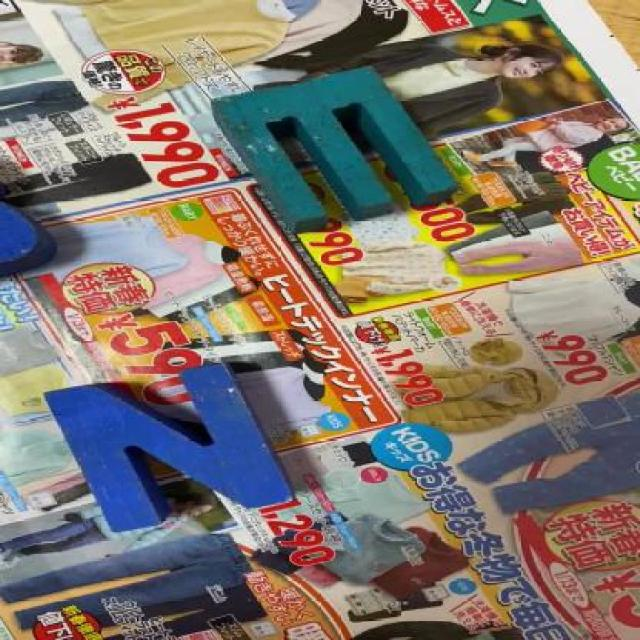M: (210, 71, 458, 231)
N: (50, 367, 292, 522)
